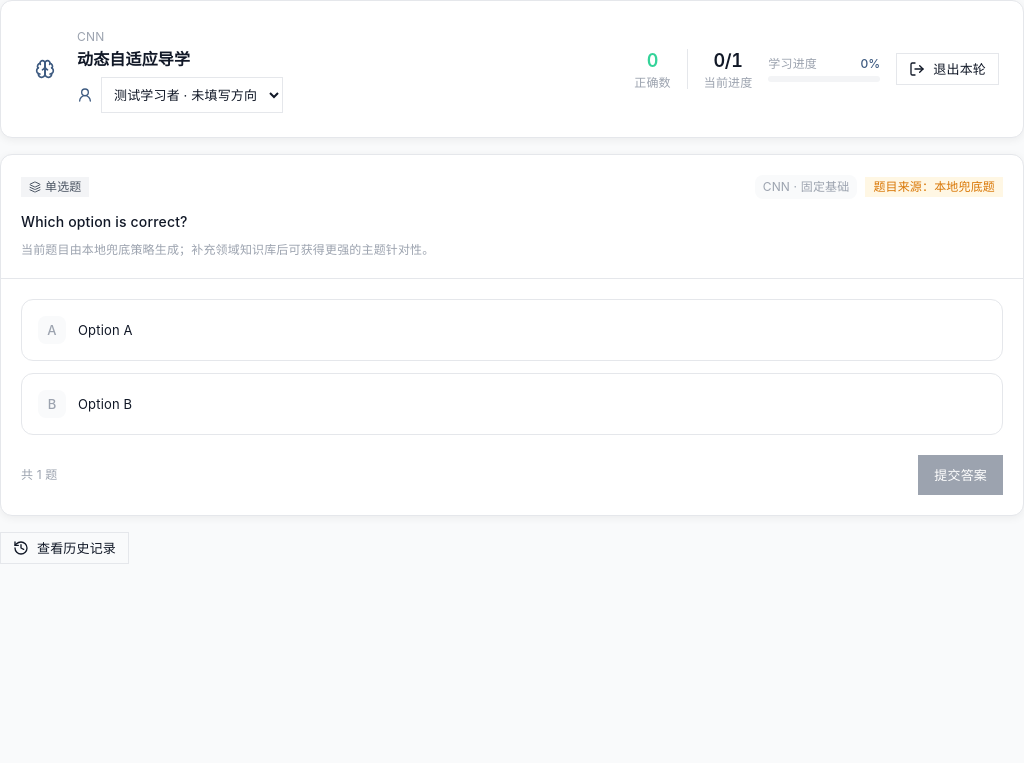
Test: AdaptiveGuidance page › does not show a wrong result while the server is still judging the answer
The image size is (1024, 763).
Click the button "B Option B" at (105, 404), box [21, 373, 1003, 435]
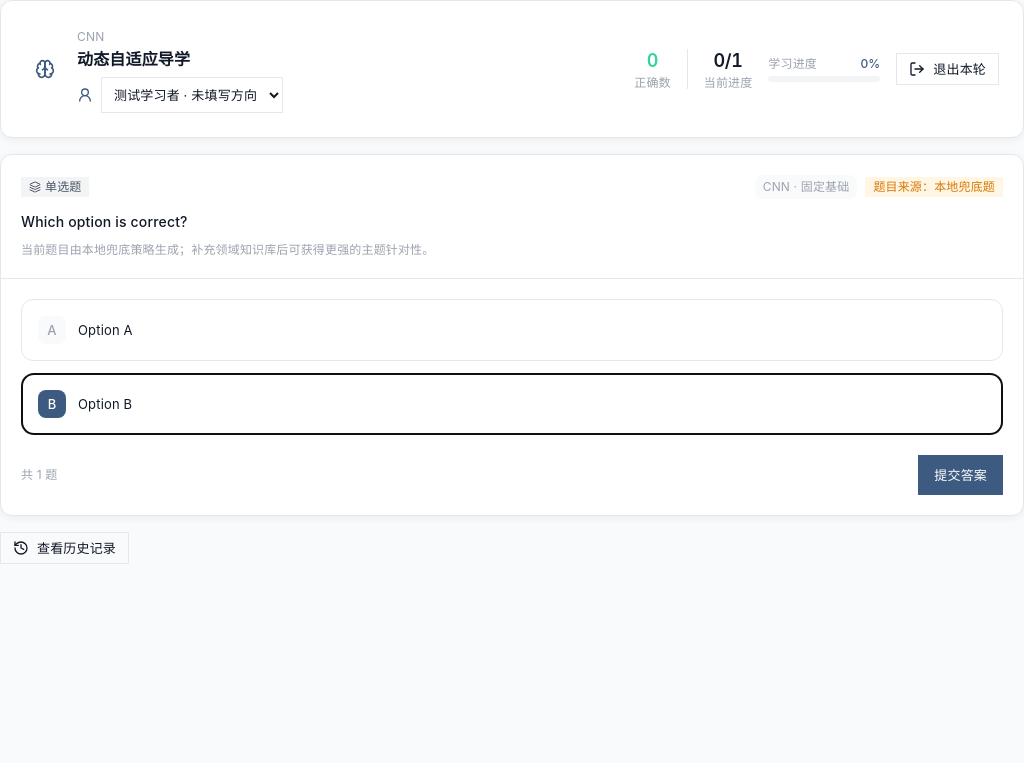
Click the button "提交答案" at (961, 475), box [918, 455, 1003, 495]
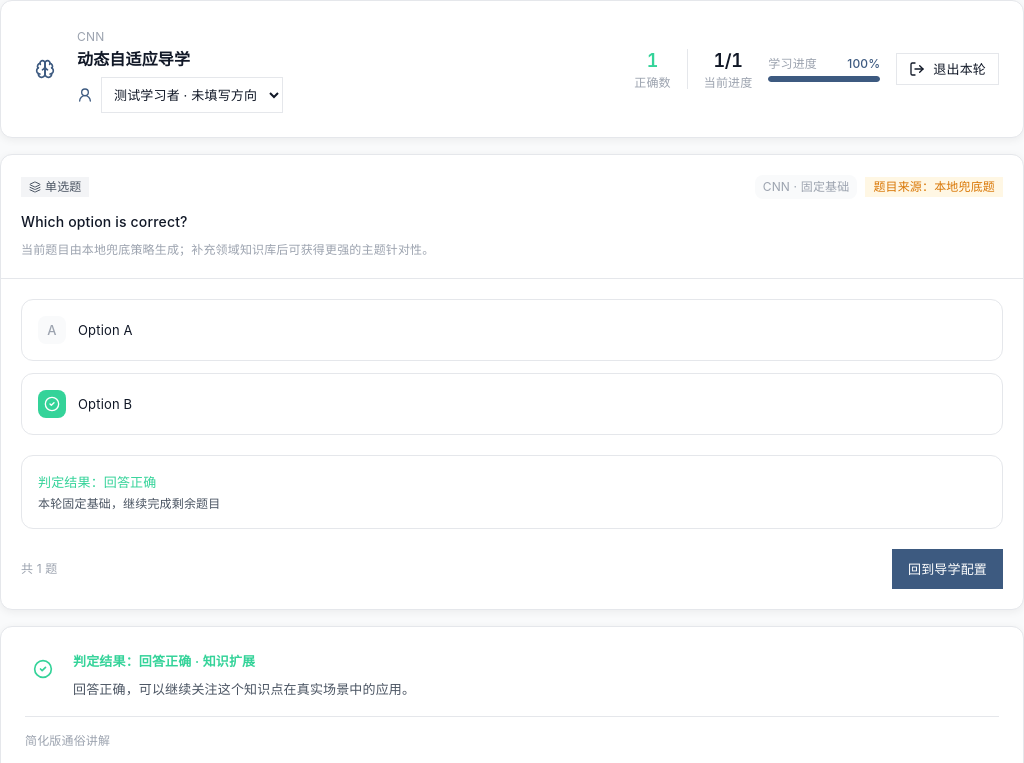
Check: the text "判定结果：回答正确" is shown, box [38, 474, 156, 490]
